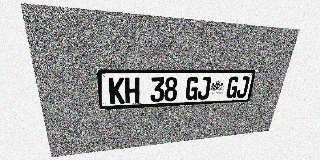3: (150, 77, 165, 102)
8: (164, 77, 178, 101)
G: (185, 77, 200, 100), (225, 76, 240, 98)
H: (125, 77, 140, 103)
J: (197, 77, 211, 100), (236, 76, 250, 98)
K: (108, 77, 125, 104)
